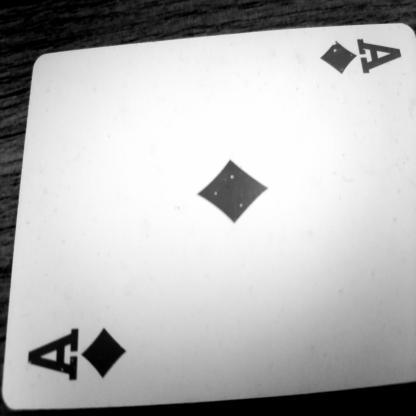AD: (25, 292, 142, 402), (309, 25, 405, 97)
